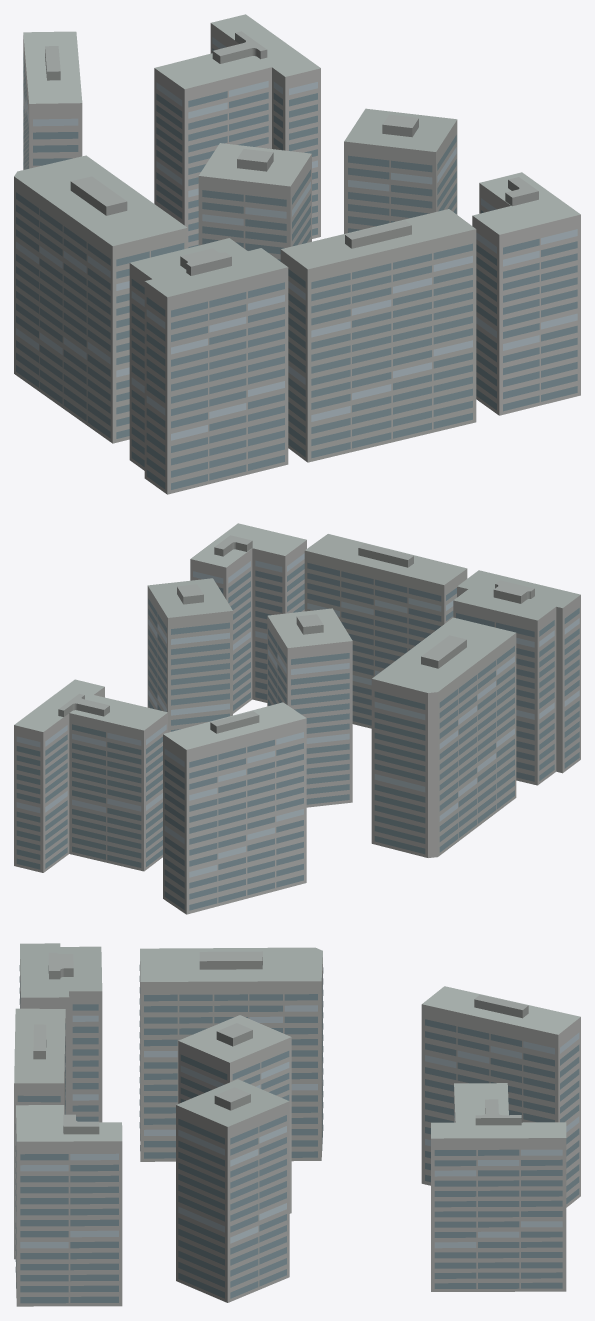
The model's file is apt-a10024505.glb.
The picture shows the model from 3 angles, top to bottom: view 1: azimuth 30°, elevation 25°; view 2: azimuth 150°, elevation 25°; view 3: azimuth 270°, elevation 25°; orthographic projection. The views are drawn at different scales.
Visible parts, largest first — view 1: apt-a10024505; view 2: apt-a10024505; view 3: apt-a10024505.
Boxes of the visible parts, x1,y1,x2,y2 form: apt-a10024505: [14, 14, 580, 494]; apt-a10024505: [14, 523, 580, 914]; apt-a10024505: [14, 943, 580, 1306].
Size of the model in its own units: 100 by 48 by 131.
